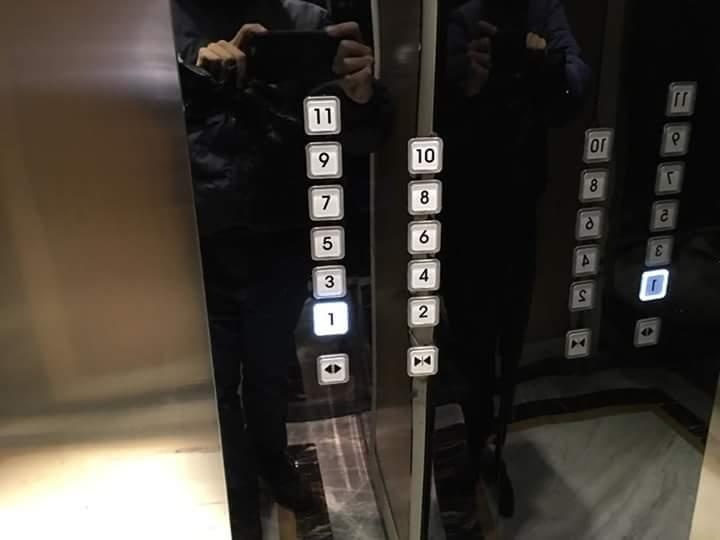1: (313, 302, 349, 335)
10: (408, 137, 443, 173)
11: (302, 95, 342, 135)
2: (407, 296, 439, 327)
3: (312, 266, 346, 299)
4: (408, 258, 441, 291)
5: (310, 225, 345, 261)
6: (408, 219, 441, 254)
7: (309, 185, 343, 220)
8: (408, 178, 442, 214), (578, 168, 608, 202)
9: (305, 142, 343, 179)
close: (407, 346, 438, 377), (564, 327, 590, 359)
open: (316, 353, 349, 384), (633, 317, 660, 346)
unknown: (666, 81, 696, 118), (583, 127, 614, 162), (662, 123, 691, 156), (655, 162, 684, 195), (639, 269, 668, 301), (576, 207, 604, 240), (572, 242, 598, 277), (650, 199, 677, 232), (569, 280, 597, 311), (645, 236, 671, 266)
